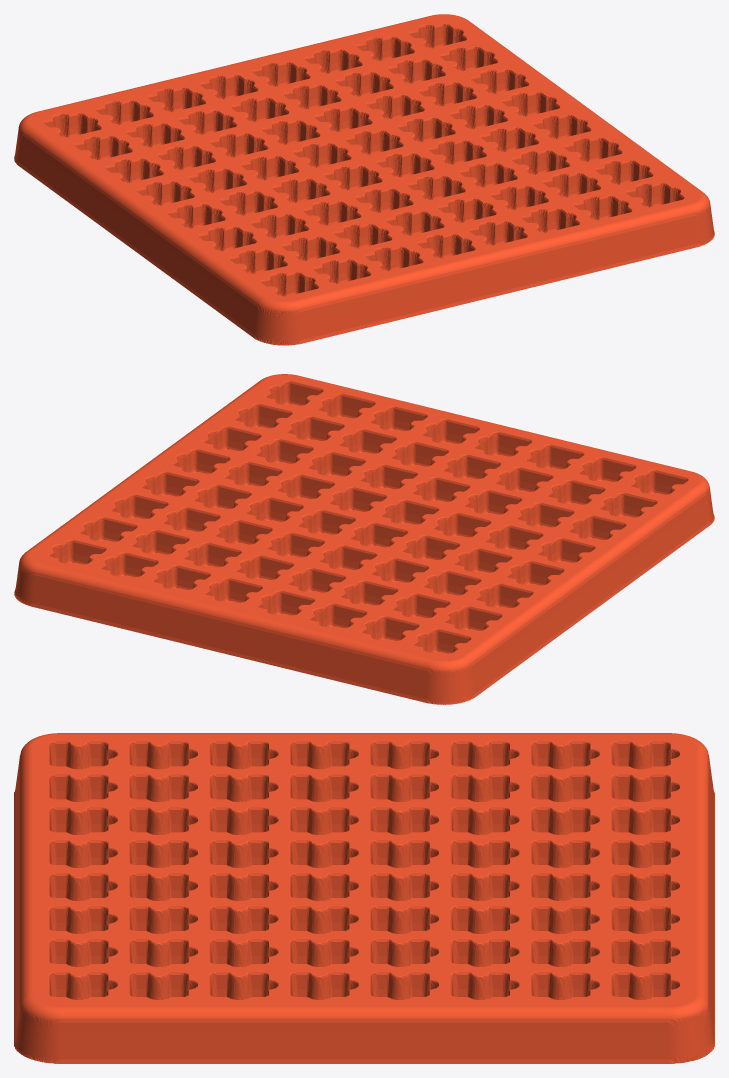
The model's file is mold.glb.
3 views of the same model, one above another, from view 1: azimuth 30°, elevation 25°; view 2: azimuth 150°, elevation 25°; view 3: azimuth 270°, elevation 25° (orthographic). The views are drawn at different scales.
Visible parts, largest first — view 1: geometry_0; view 2: geometry_0; view 3: geometry_0.
Part boxes in pixels (box(x1,y1,x2,y2)): geometry_0: box(14, 14, 714, 345); geometry_0: box(14, 374, 714, 704); geometry_0: box(14, 733, 714, 1063).
Size of the model in its own units: 0.1319 by 0.0105 by 0.1355.
